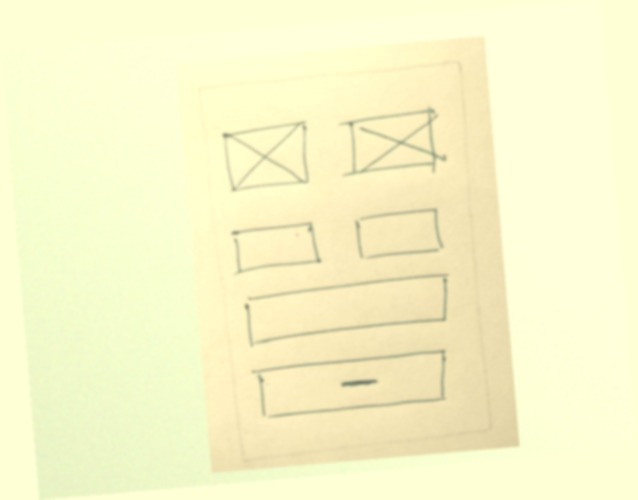button: (249, 348, 455, 423)
image: (335, 103, 454, 187), (218, 117, 315, 199)
text_input: (237, 270, 464, 351), (347, 203, 452, 266), (226, 217, 326, 279)
